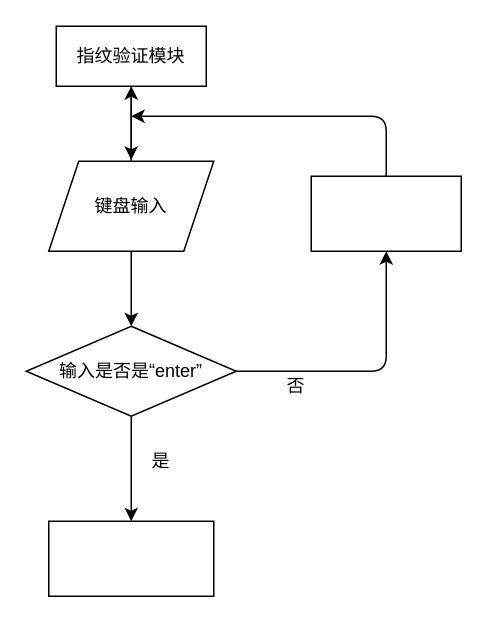
The diagram is 488 pixels wide and 623 high, and some of its shapes have lost their labels. The shapes that lost their labels are listed below. From the top down, each one's centre as x and y in pixels, then its label:
At (385,213): "显示“指纹验证不正确”".
At (130,558): "主功能模块".
